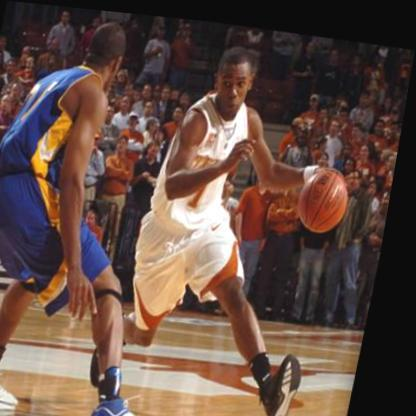basketball: (299, 160, 361, 228)
